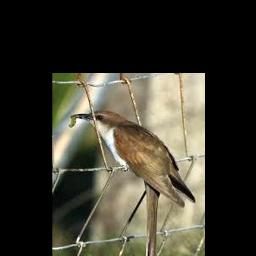Cuckoo: (70, 110, 195, 256)
